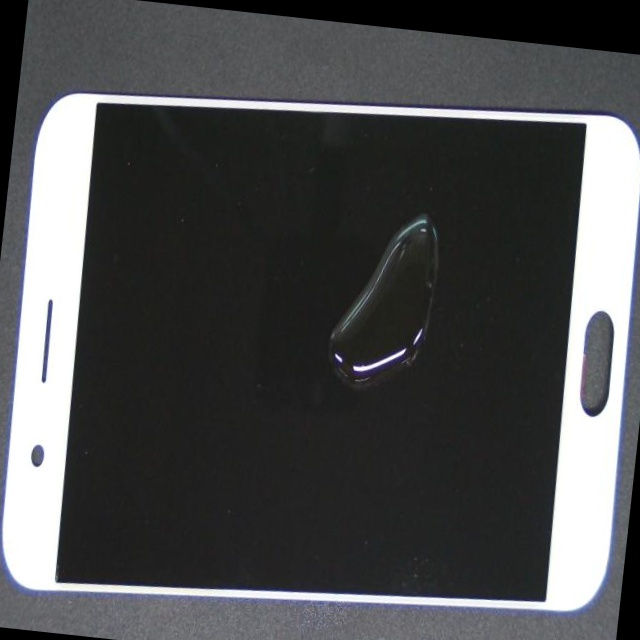oil: (207, 192, 640, 439)
